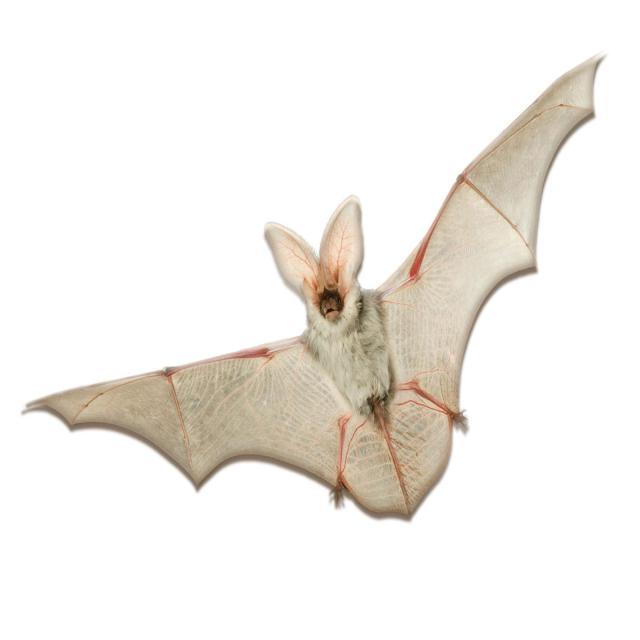Bat: (21, 52, 605, 532)
